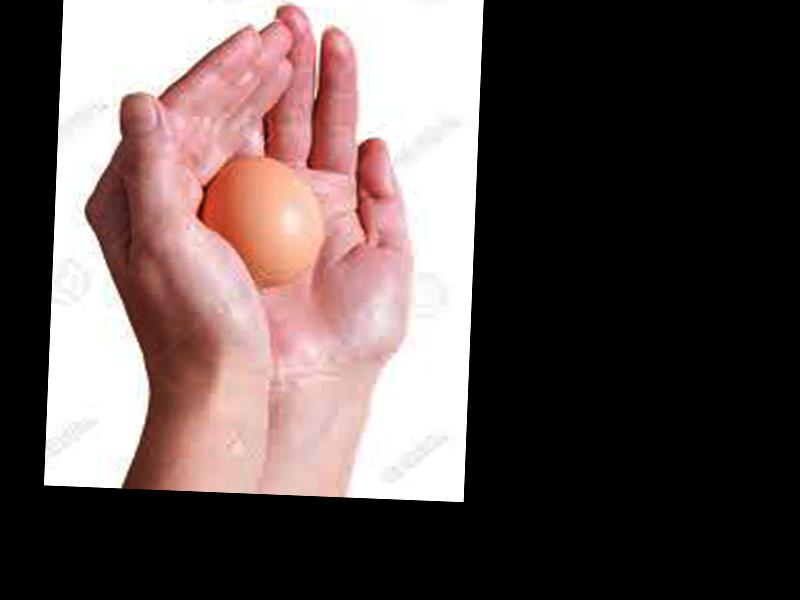Eggs: (201, 155, 320, 281)
